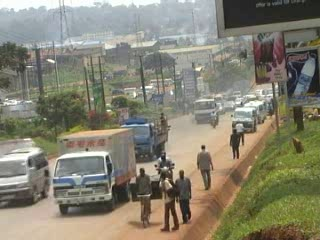Car: (221, 100, 237, 112), (231, 96, 243, 109), (214, 101, 224, 115)
Motorcycle: (151, 151, 177, 197), (208, 108, 219, 130)
